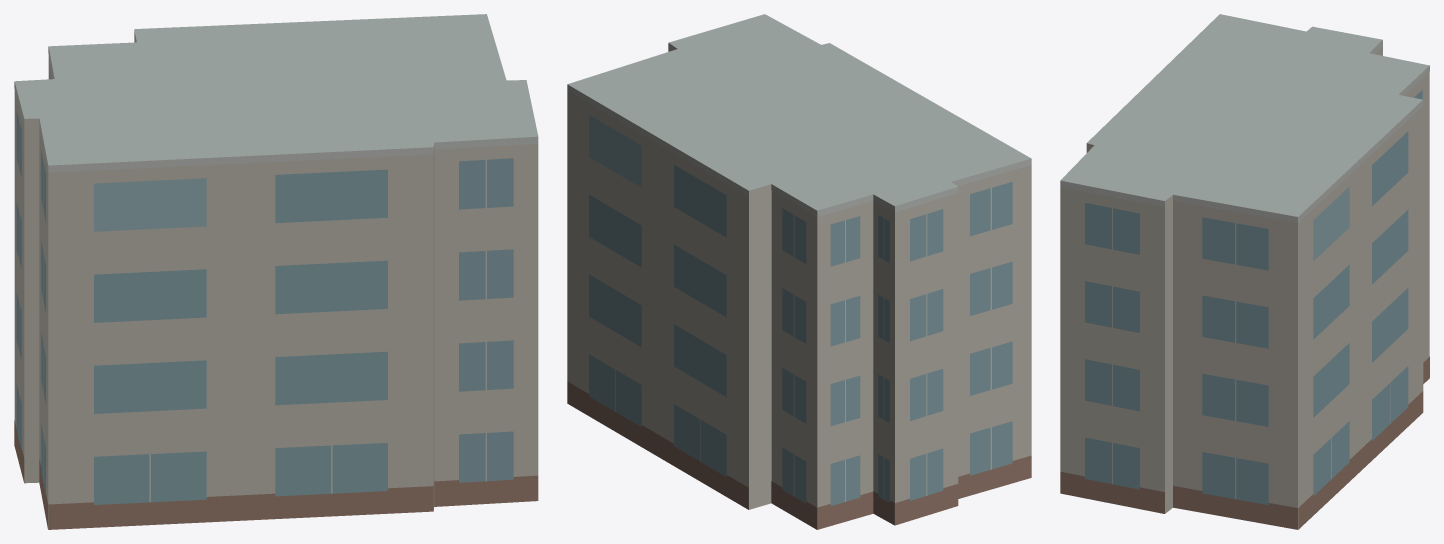
The model's file is survey-upis-32530230.glb.
The picture shows the model from 3 angles, left to right: view 1: azimuth 30°, elevation 25°; view 2: azimuth 150°, elevation 25°; view 3: azimuth 270°, elevation 25°; orthographic projection. The views are drawn at different scales.
Visible parts, largest first — view 1: survey-upis-32530230.tmp; view 2: survey-upis-32530230.tmp; view 3: survey-upis-32530230.tmp.
Boxes of the visible parts, left/top/right/bottom form: survey-upis-32530230.tmp: left=14, top=14, right=538, bottom=529; survey-upis-32530230.tmp: left=567, top=14, right=1031, bottom=529; survey-upis-32530230.tmp: left=1060, top=14, right=1429, bottom=529.
Bounding box in the file's own units: 17.33 × 12.45 × 13.33.
